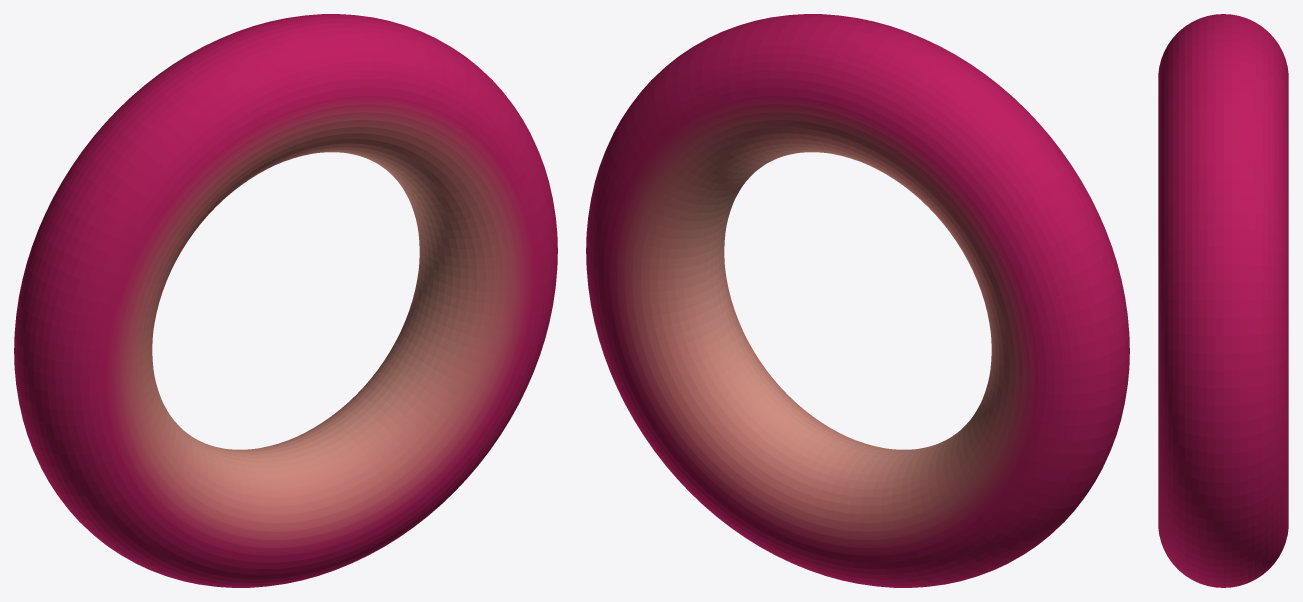
The picture shows the model from 3 angles, left to right: view 1: azimuth 30°, elevation 25°; view 2: azimuth 150°, elevation 25°; view 3: azimuth 270°, elevation 25°; orthographic projection. The views are drawn at different scales.
Visible parts, largest first — view 1: world; view 2: world; view 3: world.
Part boxes in pixels (<box>): world: <box>14,14,557,587</box>; world: <box>586,14,1129,587</box>; world: <box>1158,14,1288,587</box>.
Size of the model in its own units: 18.13 by 18.13 by 4.13.
